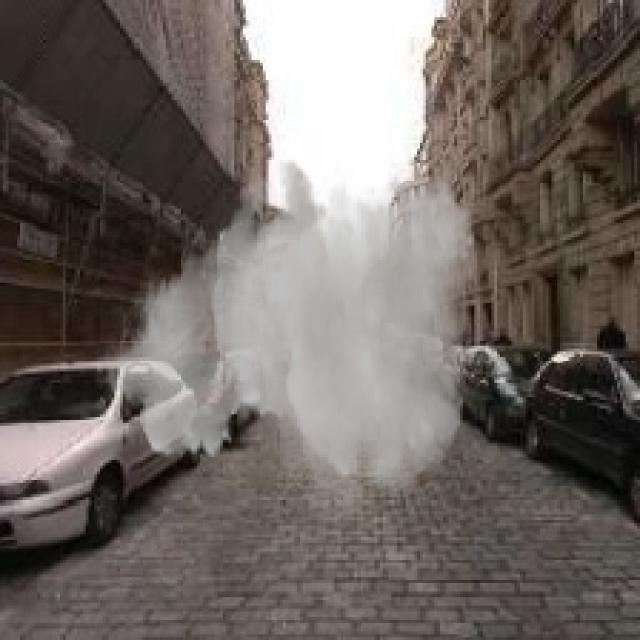Smoke: (94, 157, 477, 540)
